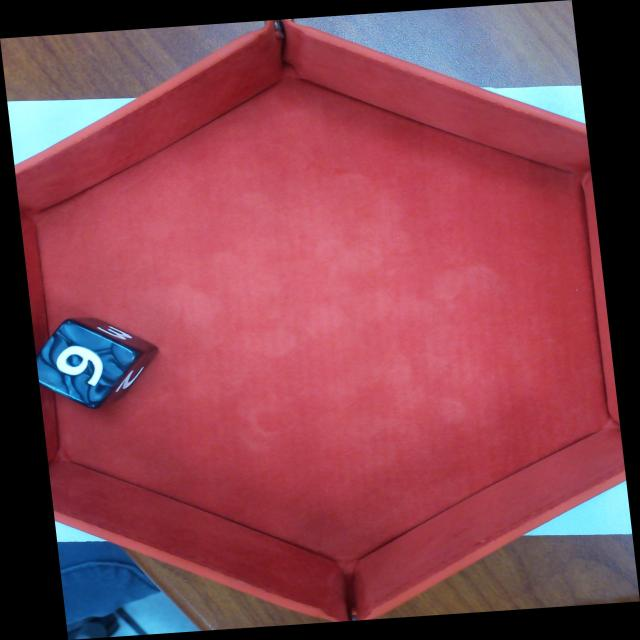dice: (36, 318, 141, 411)
